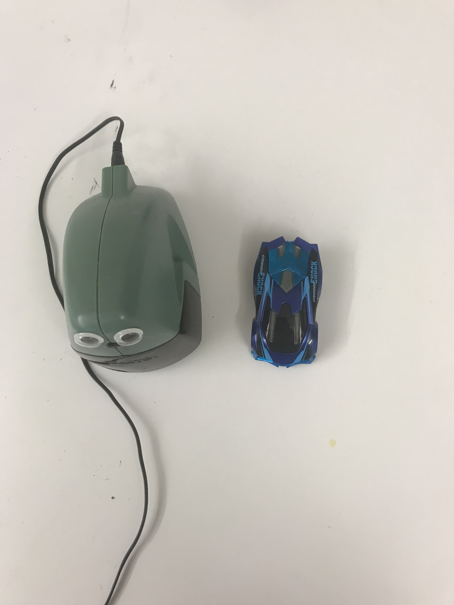Shock: (249, 235, 323, 367)
